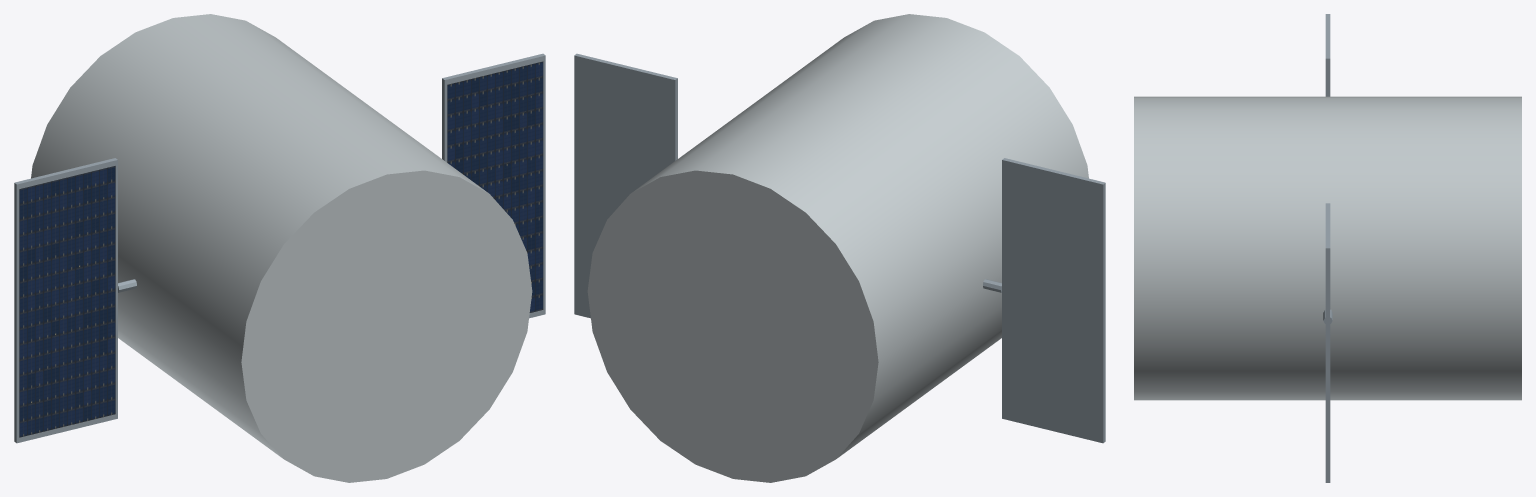
File: ref-leostar-2-31304.glb
The picture shows the model from 3 angles, left to right: view 1: azimuth 30°, elevation 25°; view 2: azimuth 150°, elevation 25°; view 3: azimuth 270°, elevation 25°; orthographic projection. The views are drawn at different scales.
Visible parts, largest first — view 1: Spacecraft body, Photovoltaic laminates (×2), Array frame (×2); view 2: Spacecraft body, Array frame (×2); view 3: Spacecraft body, Array frame (×2).
Part boxes in pixels (left/top/right/bottom): Spacecraft body: left=31, top=14, right=532, bottom=482; Photovoltaic laminates (×2): left=19, top=61, right=543, bottom=437; Array frame (×2): left=14, top=53, right=545, bottom=443; Spacecraft body: left=587, top=14, right=1088, bottom=482; Array frame (×2): left=574, top=53, right=1105, bottom=443; Spacecraft body: left=1134, top=96, right=1521, bottom=400; Array frame (×2): left=1325, top=14, right=1330, bottom=482.
Bounding box in the file's own units: 2 × 1.1 × 1.4.
3 materials, 1 textured.
